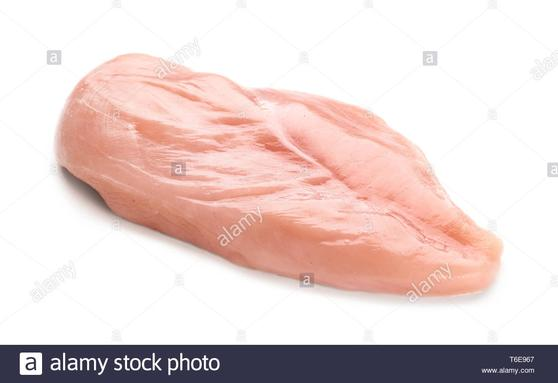chicken_fillet: (46, 52, 514, 302)
